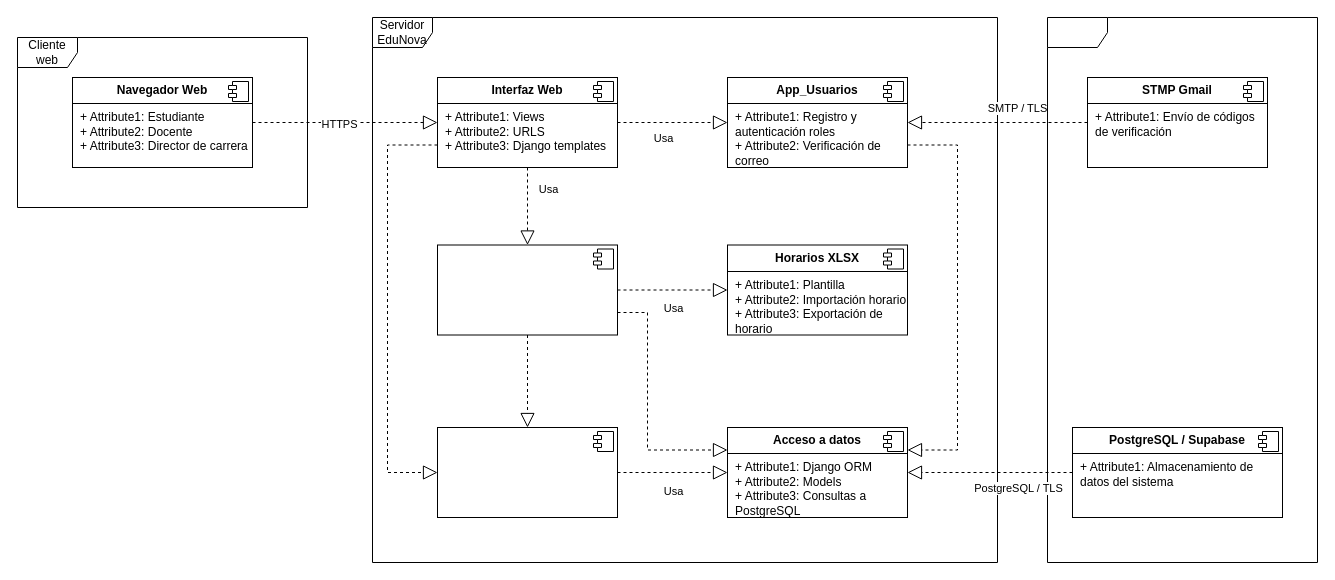
The diagram is 1335 pixels wide and 580 high, and some of its shapes have lost their labels. The centre of each missing label's shape, as x and y in pixels:
"App_Academico + Attribute1: Calendario + Attribute2: Tipos de eventos" goes at [527,289].
"App_Comunicaciones + Attribute1: Mensajes y notificaciones internas" goes at [527,472].
"Servicios externos" goes at [1182,289].
